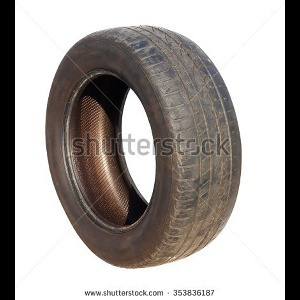tire: (46, 26, 242, 268)
